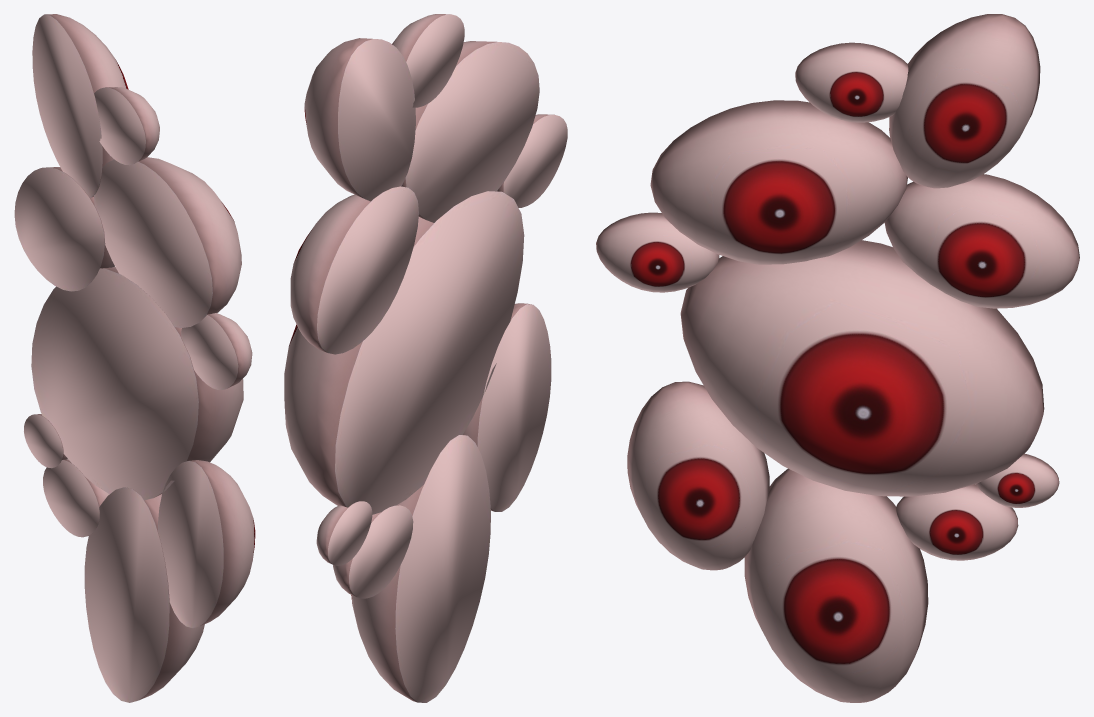
The model's file is eye cluster 4.fbx.
The picture shows the model from 3 angles, left to right: view 1: azimuth 30°, elevation 25°; view 2: azimuth 150°, elevation 25°; view 3: azimuth 270°, elevation 25°; orthographic projection. The views are drawn at different scales.
Parts seen in each view (by area): view 1: cluster 2; view 2: cluster 2; view 3: cluster 2.
Boxes of the visible parts, left/top/right/bottom form: cluster 2: left=14, top=14, right=255, bottom=702; cluster 2: left=284, top=14, right=567, bottom=702; cluster 2: left=596, top=14, right=1079, bottom=702.
Size of the model in its own units: 100 by 584 by 375.
Materials: 1 (1 with a texture image).
